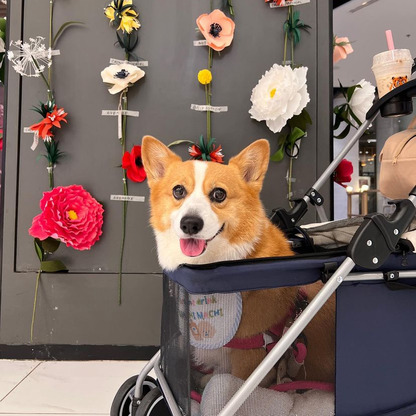Corgi: (133, 129, 308, 364)
